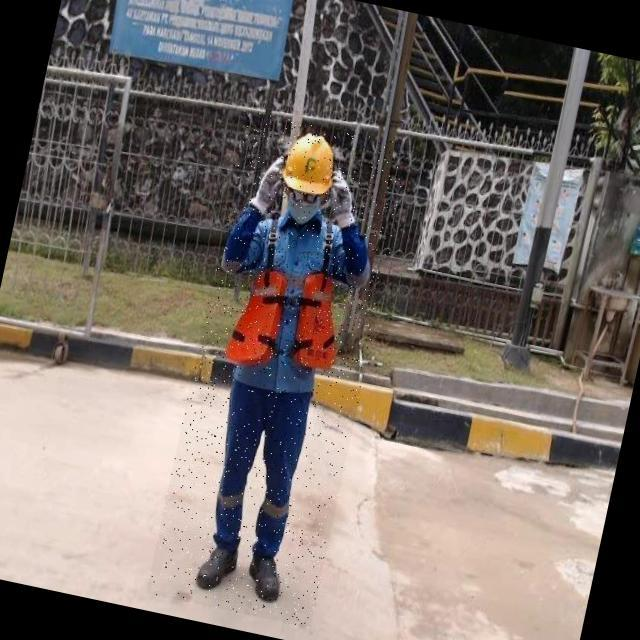Helmet: (278, 126, 343, 199)
Human: (146, 111, 413, 628)
Safety Boot: (238, 545, 291, 608), (192, 538, 243, 596)
Safety Vest: (224, 264, 353, 381)
